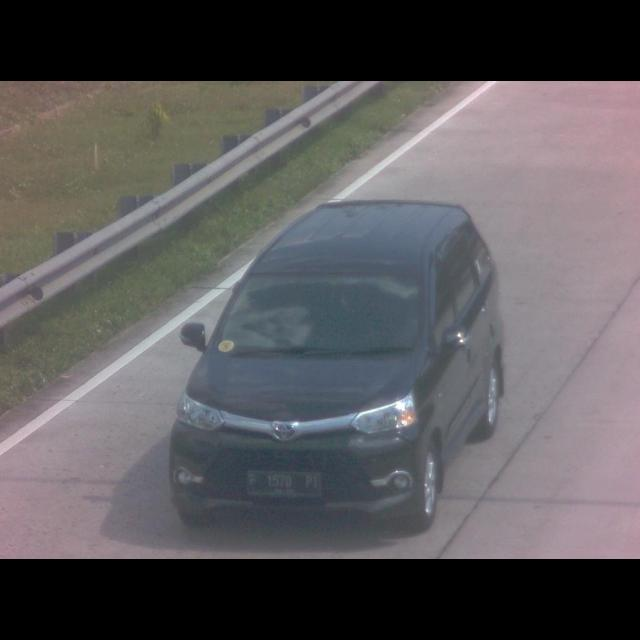plate: (242, 465, 324, 503)
